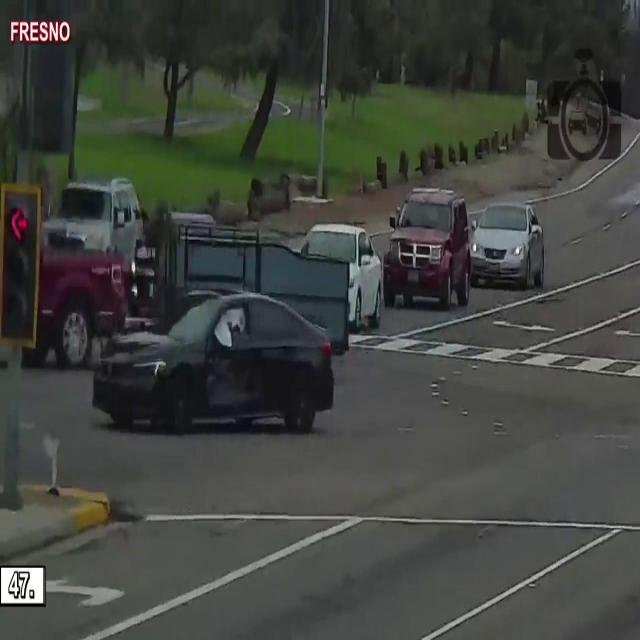accident: (86, 285, 344, 451)
